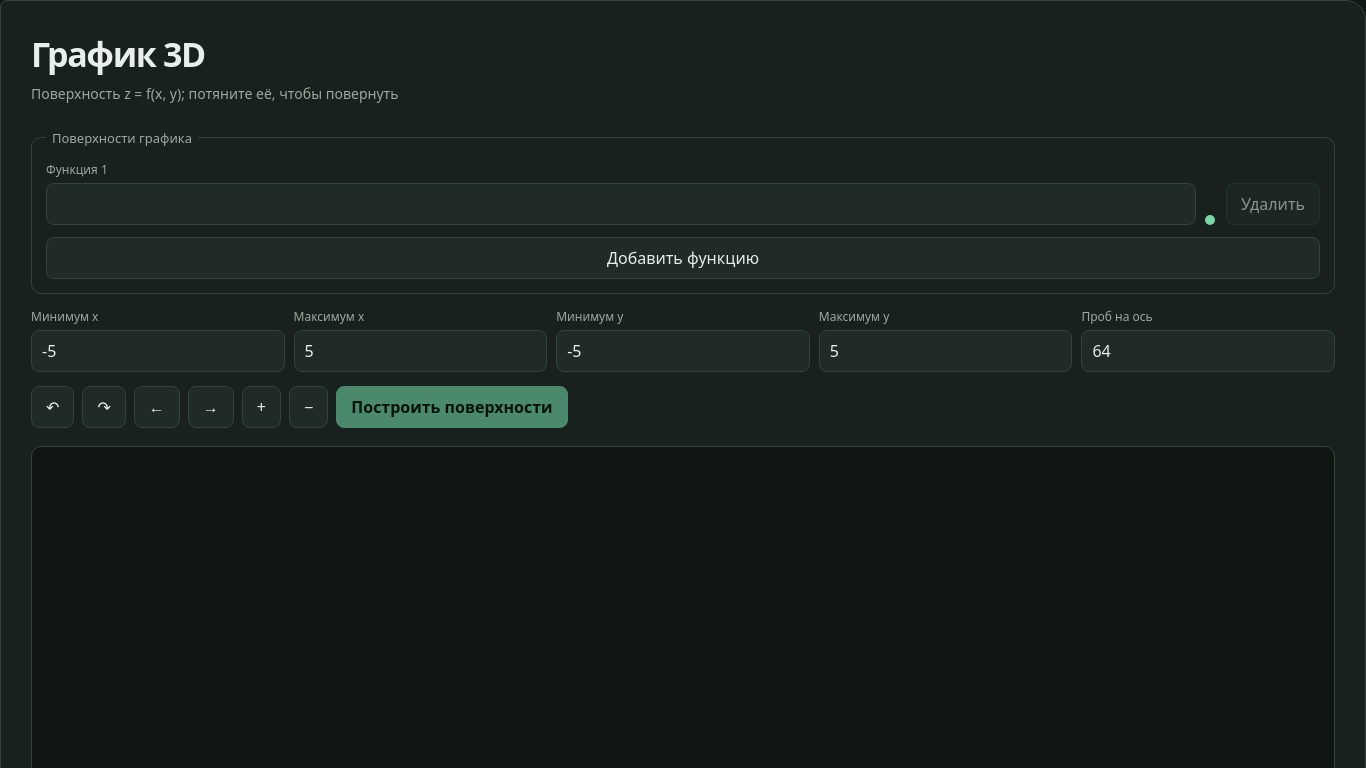
Test: Graph3DView › rejects an empty surface expression before rendering
Step 1. Click the button "Построить поверхности" → click(452, 407), box [336, 386, 568, 428]
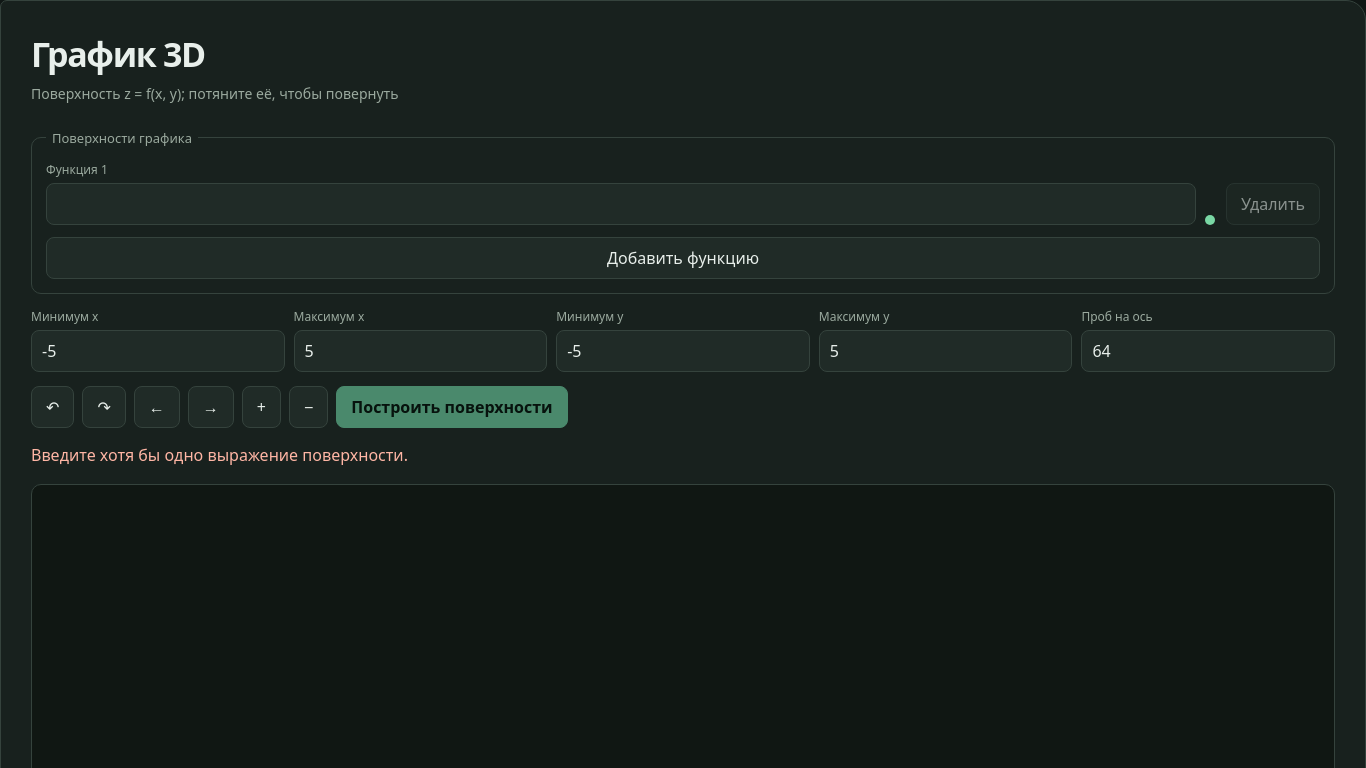
Result: the message shows "выражение" at [31, 444, 408, 466]
